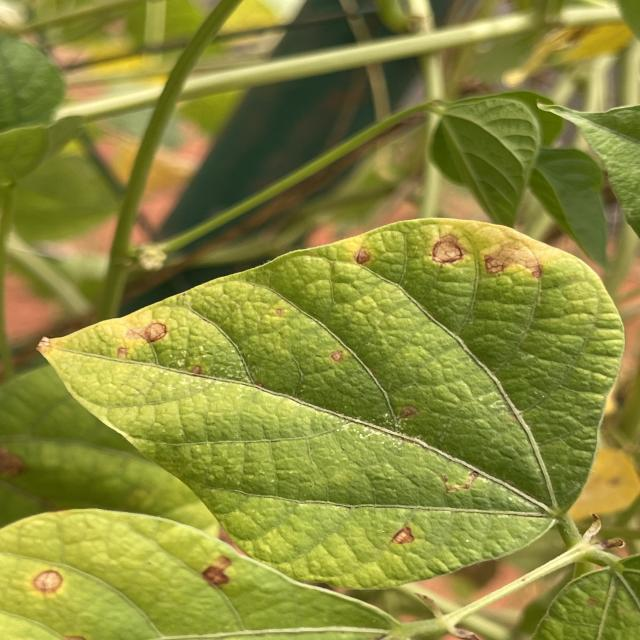Dolicos bean_cercospora leaf spot: (37, 210, 628, 580)
